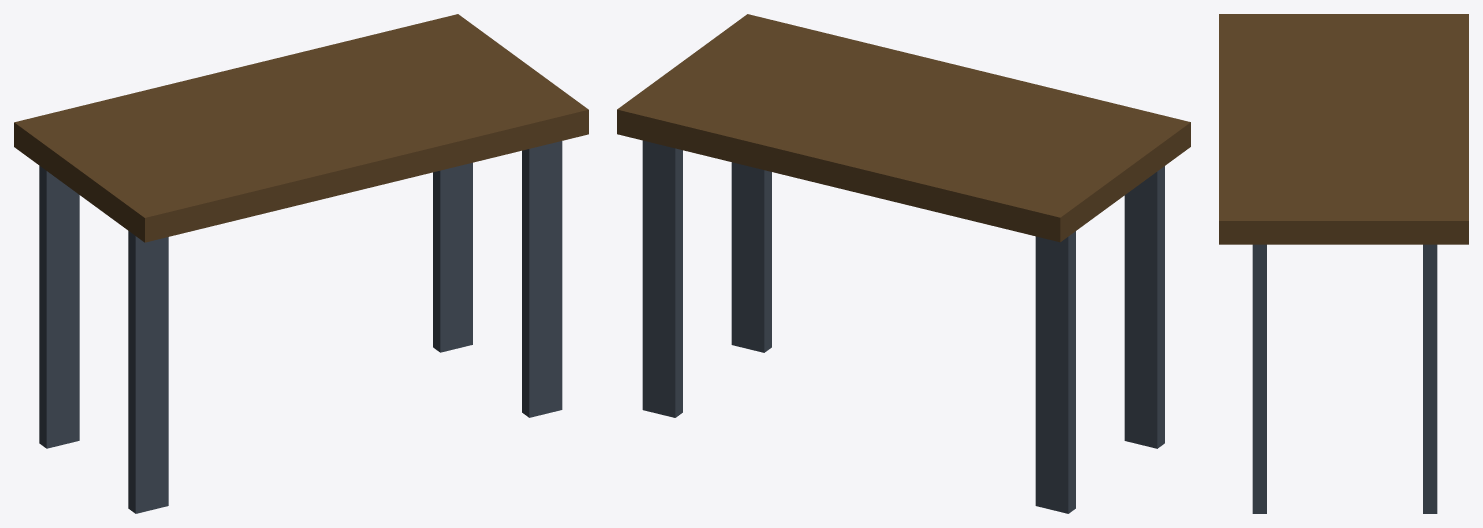
Rendered from table.fbx.
3 views of the same model, side by side, from view 1: azimuth 30°, elevation 25°; view 2: azimuth 150°, elevation 25°; view 3: azimuth 270°, elevation 25° (orthographic). The views are drawn at different scales.
Parts seen in each view (by area): view 1: Cube.004, Cube, Cube.003, Cube.001, Cube.002; view 2: Cube.004, Cube.001, Cube.002, Cube, Cube.003; view 3: Cube.004, Cube.002, Cube.003.
Boxes of the visible parts, x1,y1,x2,y2 form: Cube.004: [14, 14, 588, 242]; Cube: [128, 231, 168, 513]; Cube.003: [522, 141, 562, 417]; Cube.001: [39, 166, 79, 448]; Cube.002: [433, 162, 472, 352]; Cube.004: [617, 14, 1190, 242]; Cube.001: [1035, 231, 1075, 513]; Cube.002: [642, 140, 682, 417]; Cube: [1124, 166, 1164, 448]; Cube.003: [731, 162, 771, 352]; Cube.004: [1219, 14, 1468, 244]; Cube.002: [1423, 244, 1437, 513]; Cube.003: [1252, 244, 1266, 513].
Size of the model in its own units: 301 by 201 by 153.
